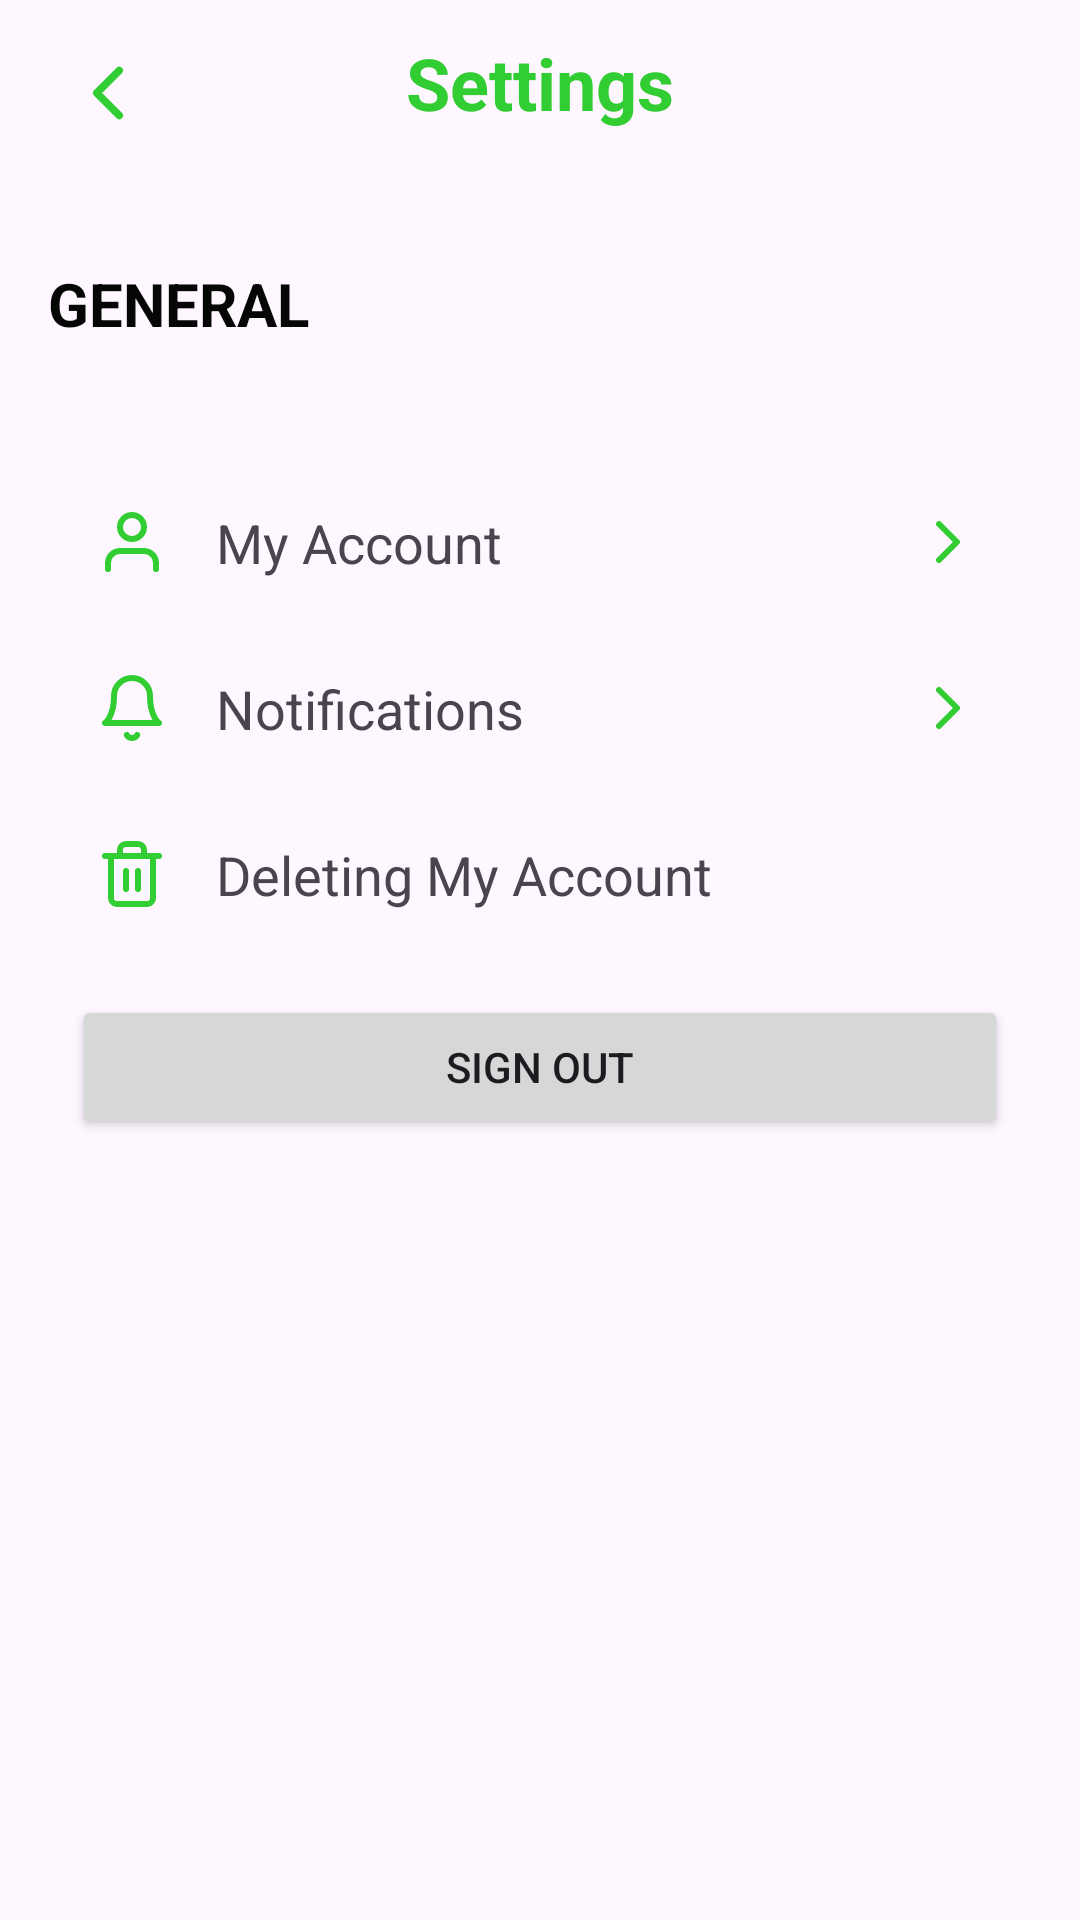

Where to tap for icons on this 1080 × 1920 app screen, as (x,y):
chevron left: (108,93)
Delete Account Icon: (132,874)
